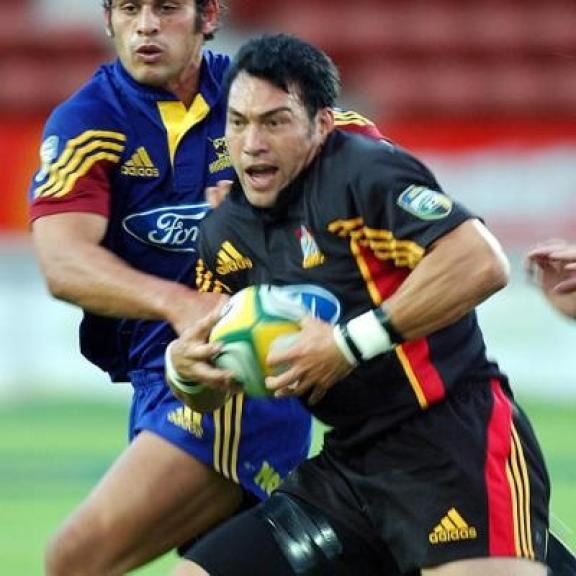face: (228, 70, 334, 208), (100, 0, 224, 83)
